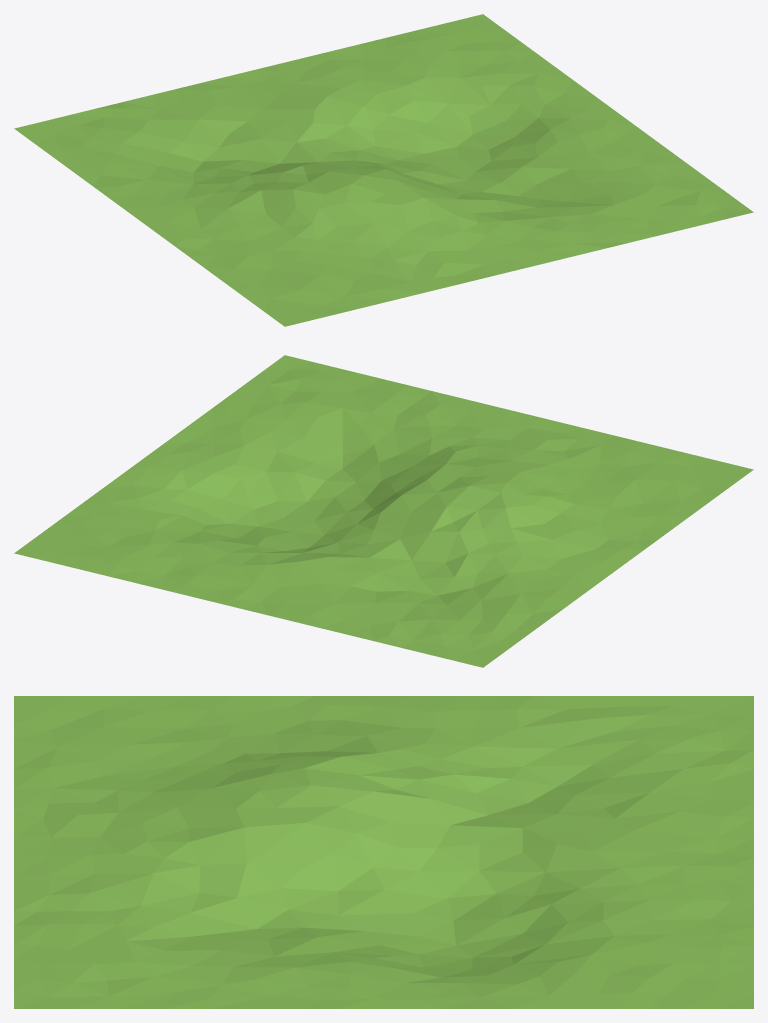
File: MT_Terrain_M_b_07.fbx
3 views of the same model, one above another, from view 1: azimuth 30°, elevation 25°; view 2: azimuth 150°, elevation 25°; view 3: azimuth 270°, elevation 25° (orthographic). The views are drawn at different scales.
Visible parts, largest first — view 1: MT_Terrain_M_b_07; view 2: MT_Terrain_M_b_07; view 3: MT_Terrain_M_b_07.
Part boxes in pixels (x1,y1,x2,y2): MT_Terrain_M_b_07: [14, 14, 753, 326]; MT_Terrain_M_b_07: [14, 355, 753, 667]; MT_Terrain_M_b_07: [14, 696, 753, 1008].
Size of the model in its own units: 5000 by 411 by 5000.
